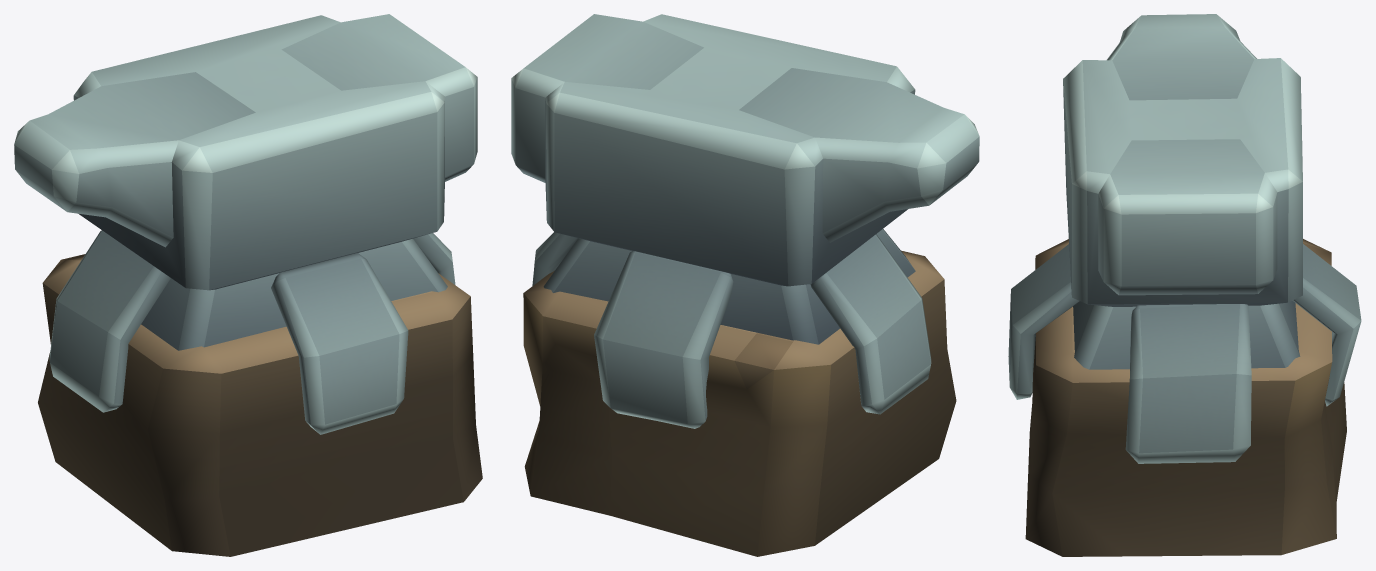
Rendered from anvil_big.fbx.
The picture shows the model from 3 angles, left to right: view 1: azimuth 30°, elevation 25°; view 2: azimuth 150°, elevation 25°; view 3: azimuth 270°, elevation 25°; orthographic projection. The views are drawn at different scales.
Visible parts, largest first — view 1: anvil_big; view 2: anvil_big; view 3: anvil_big.
Part boxes in pixels (<box>): anvil_big: <box>14,14,482,556</box>; anvil_big: <box>511,14,979,556</box>; anvil_big: <box>1008,14,1361,556</box>.
Bounding box in the file's own units: 249 × 223 × 193.
